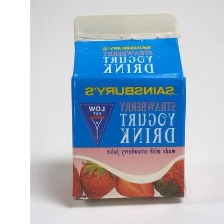carton: (62, 8, 189, 207)
